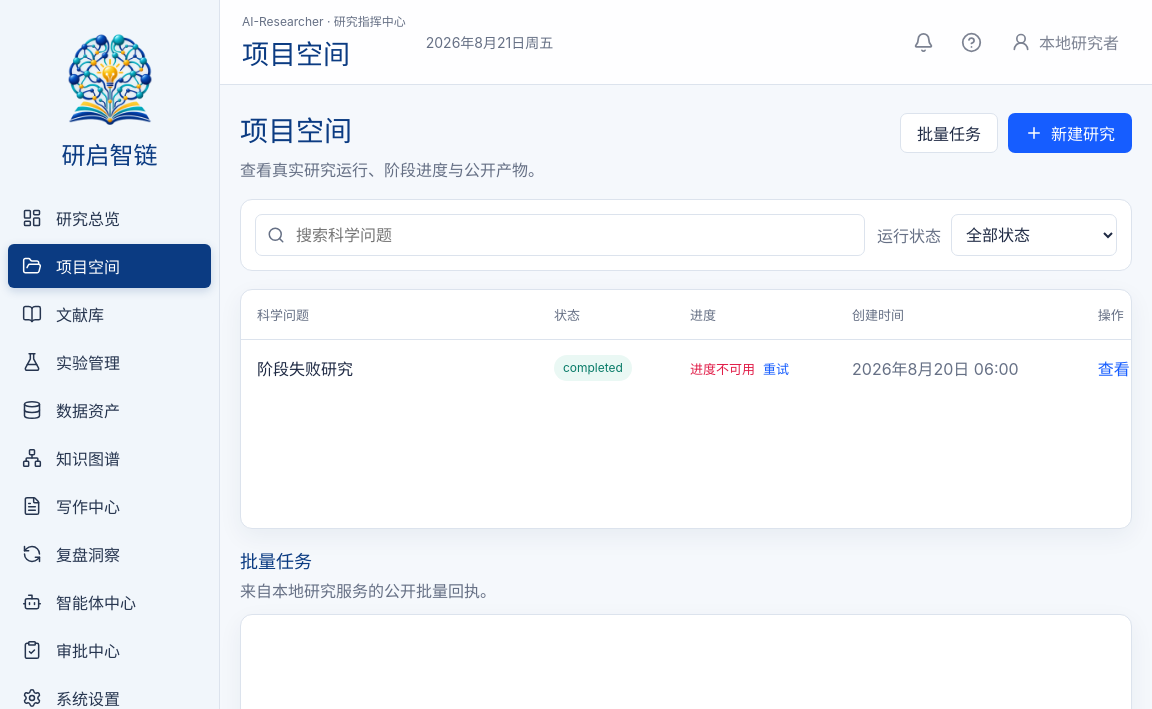
Scenario: shows honest unavailable progress and retries only that stage query
Expected: the text "进度不可用" is shown, [690, 361, 755, 377]
What coordinates should you click on to do the following:
click the button with aria-label "重试阶段失败研究的进度"
I would click on:
 (776, 368)
Its box is [763, 359, 789, 378].
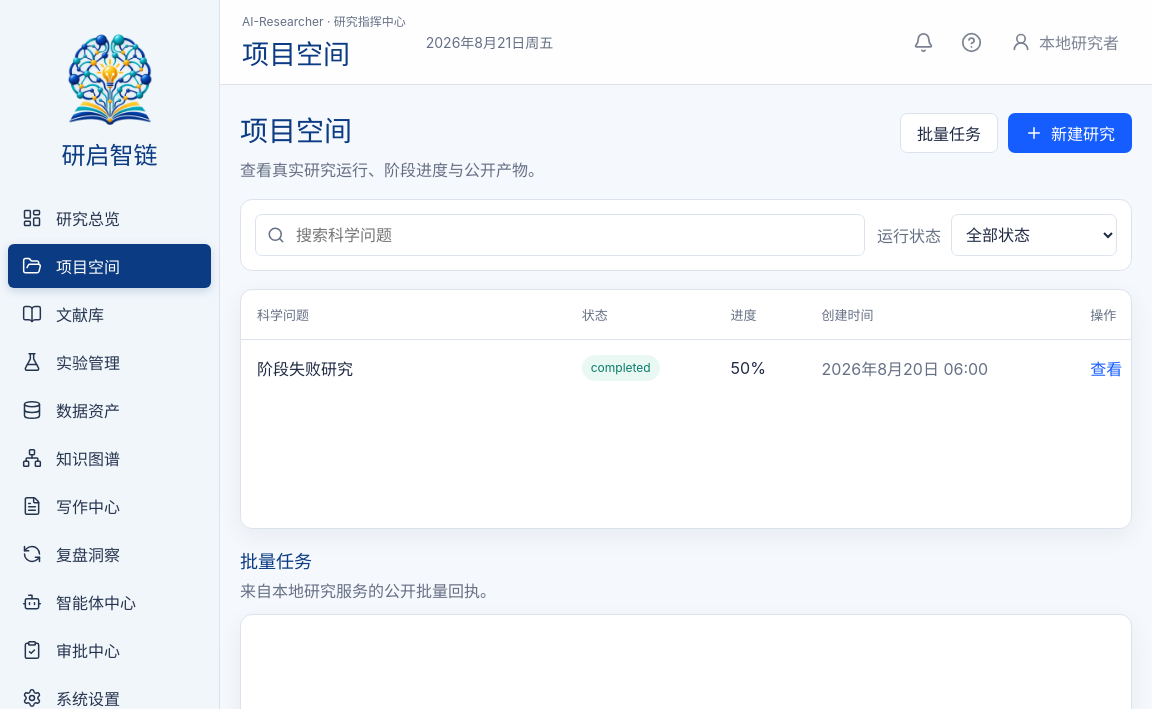
Expected: the text "50%" is shown, [714, 339, 806, 396]
